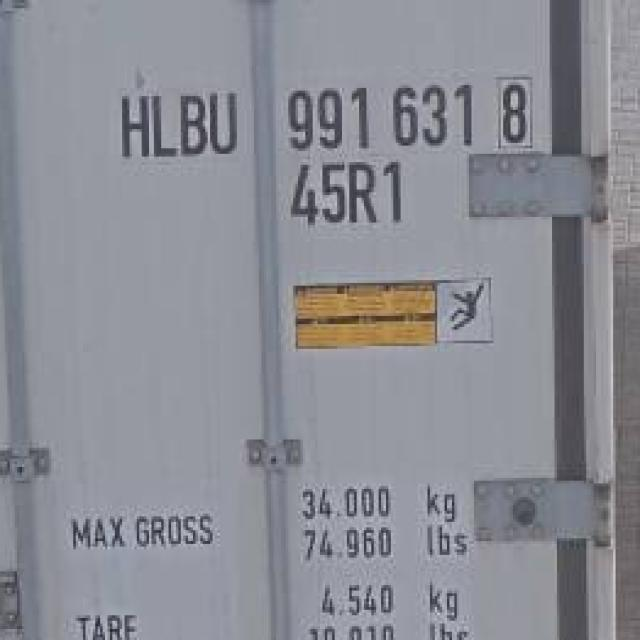dv: (490, 67, 541, 158)
owner: (107, 79, 245, 169)
serial: (282, 72, 479, 154)
size: (281, 156, 423, 234)
